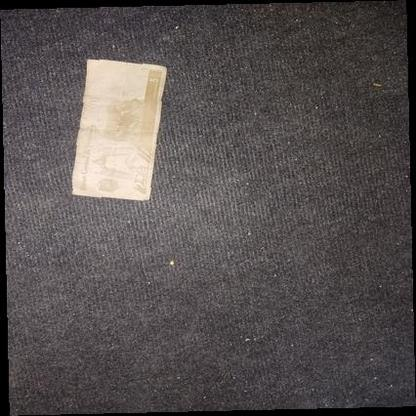five-back-vef: (70, 60, 168, 202)
